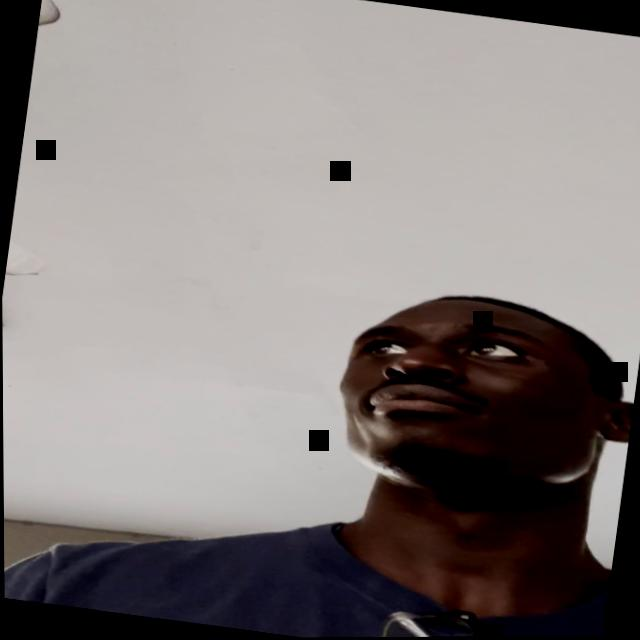NO-Mask: (327, 282, 603, 504)
